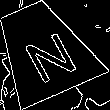N_NW: (11, 19, 76, 81)
